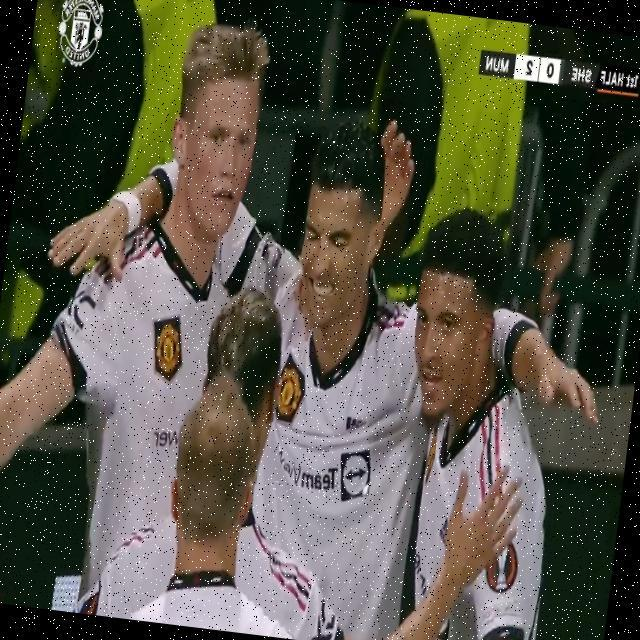Adidas: (344, 413, 368, 436)
TeamViewer: (268, 438, 373, 502)
